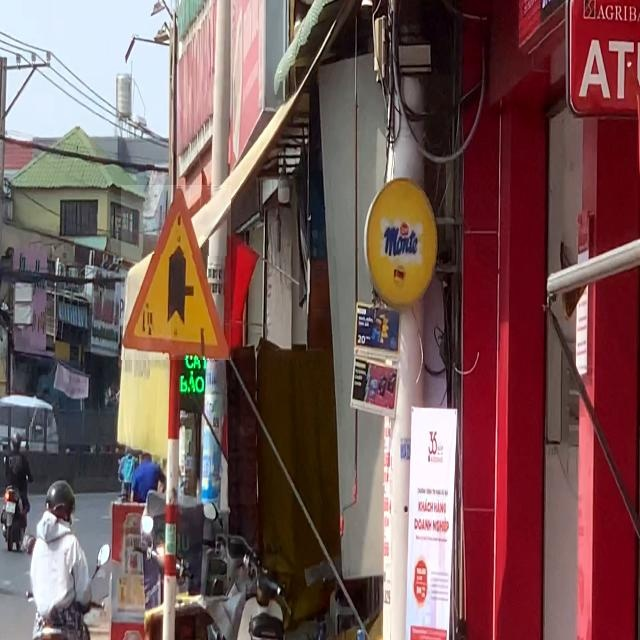bien_nguy_hiem: (121, 185, 231, 360)
